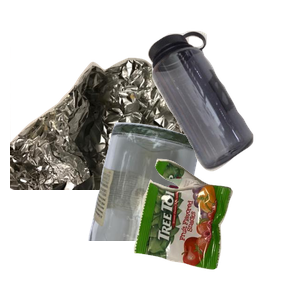glass: (86, 120, 277, 300)
metal: (10, 47, 216, 227)
plastic: (145, 28, 300, 192)
trash: (131, 156, 300, 300)
